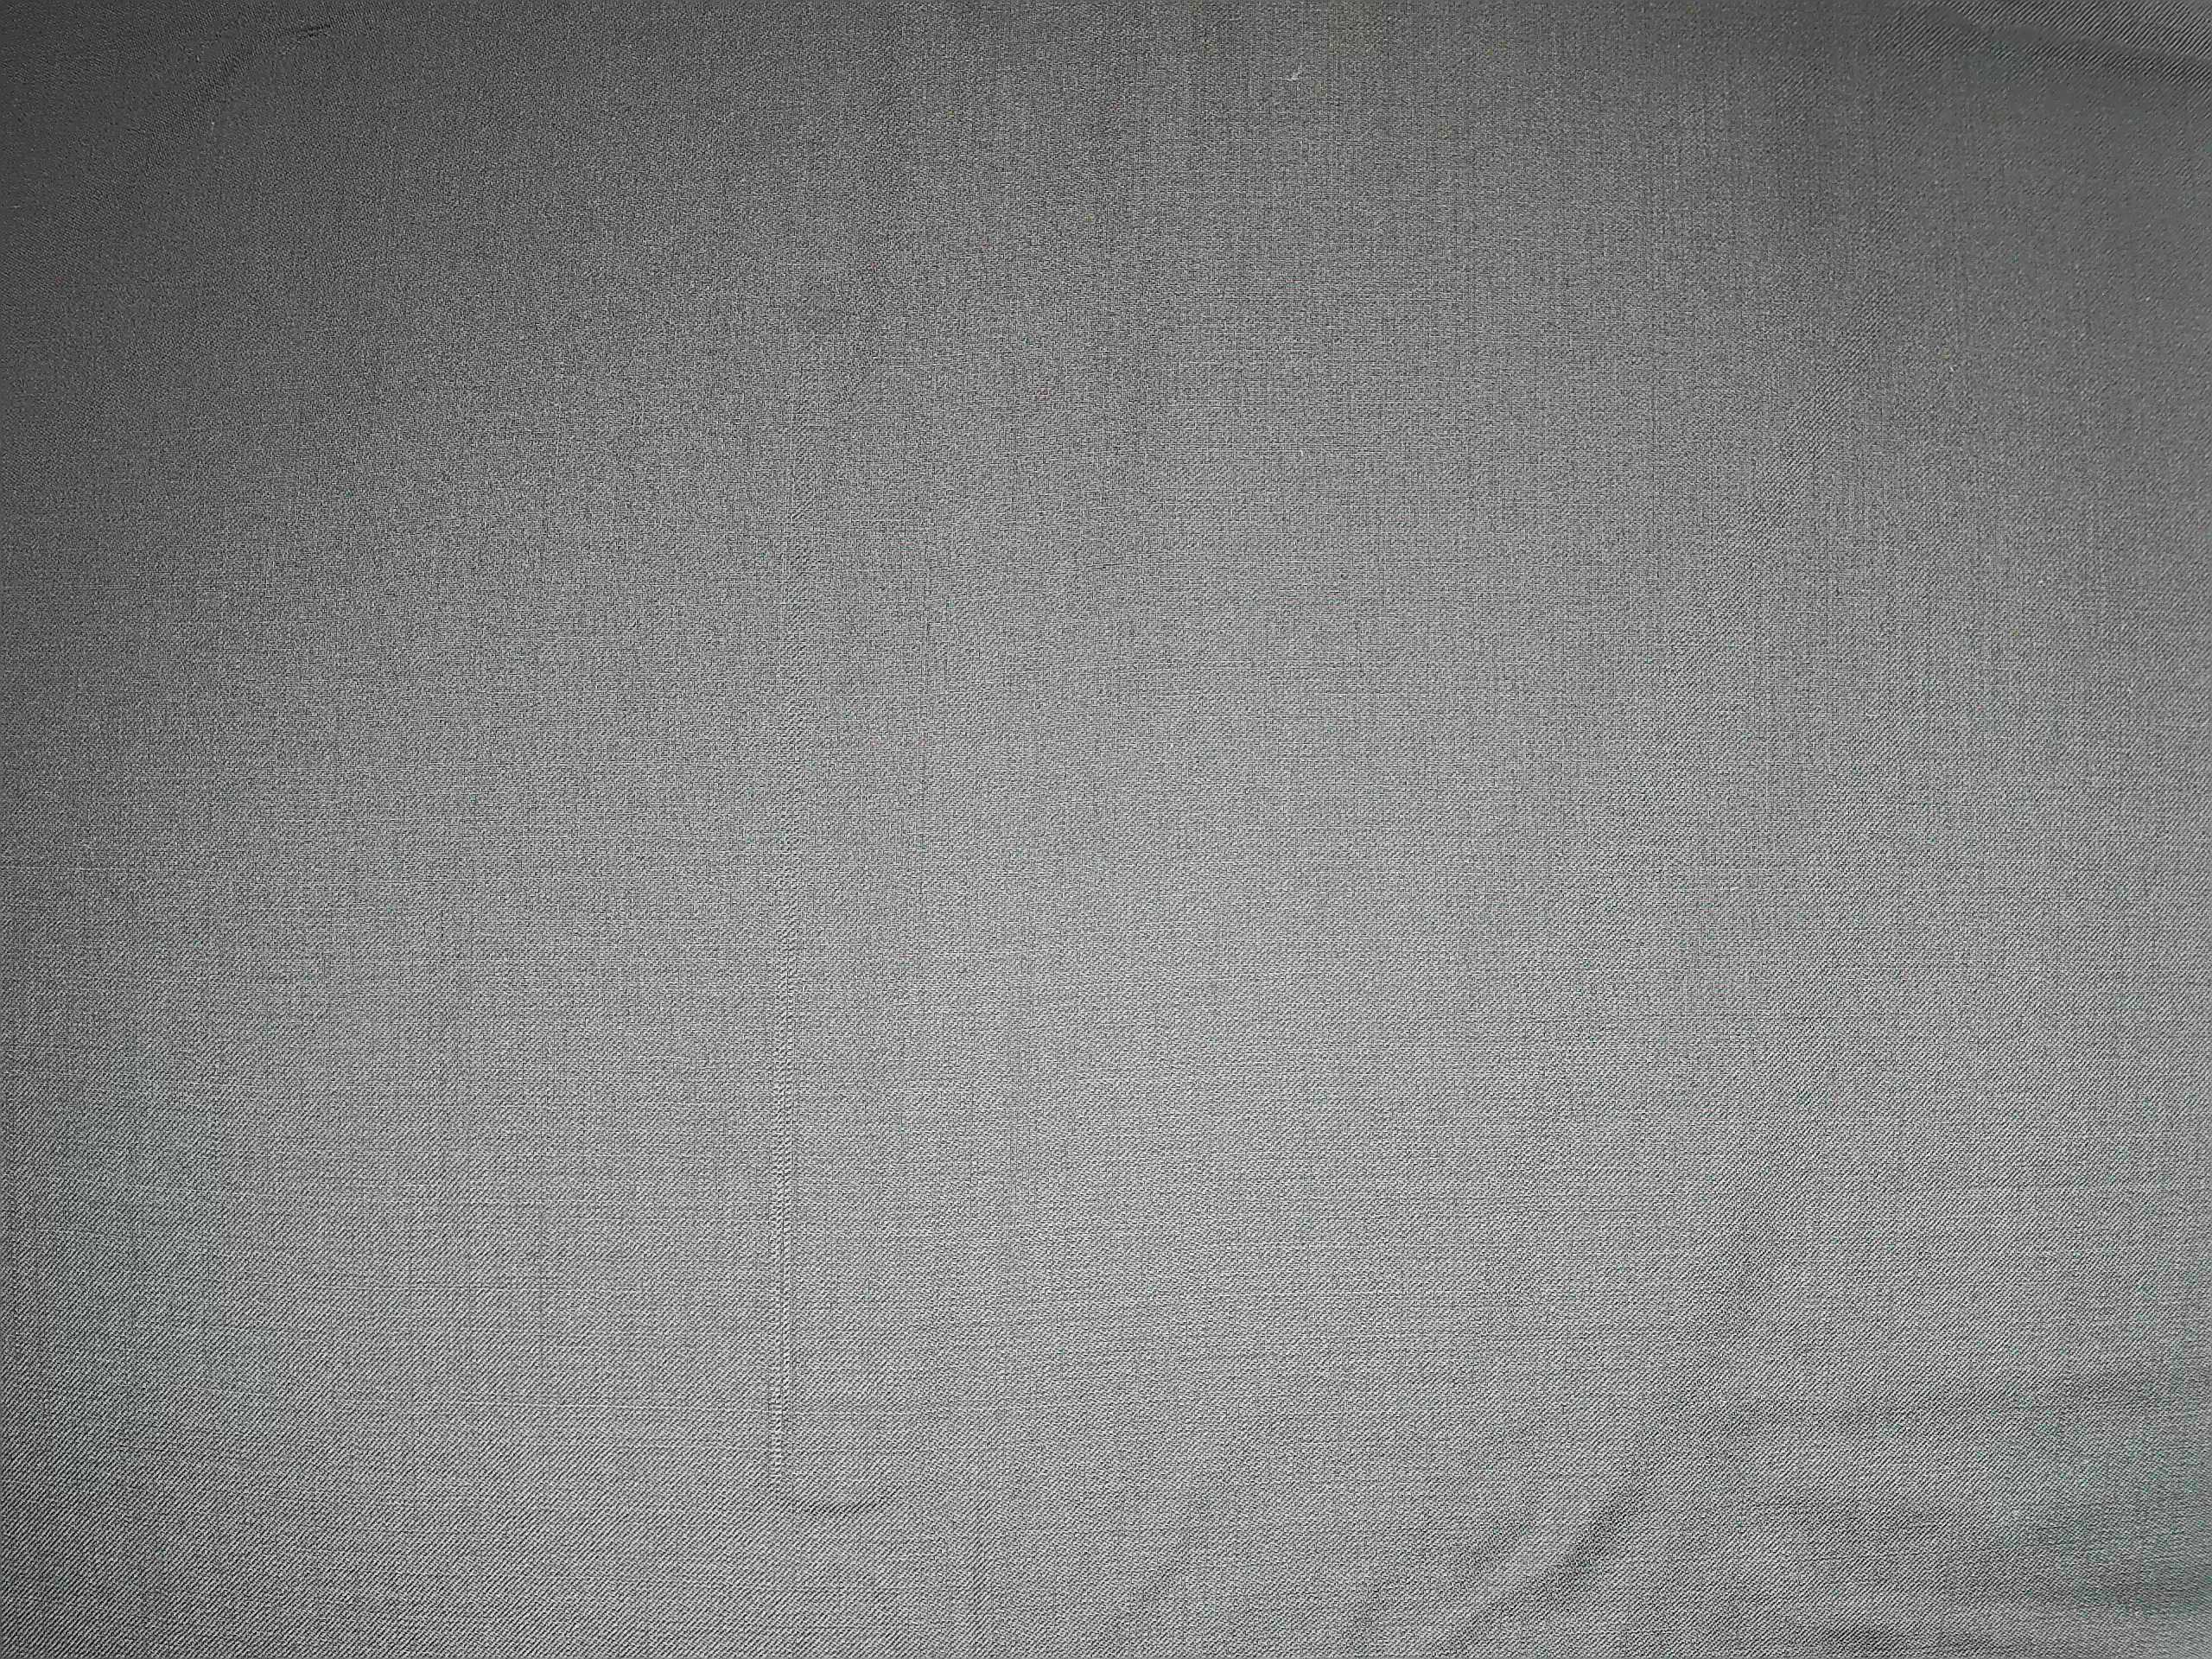hanging-warp: (745, 781, 817, 1514)
